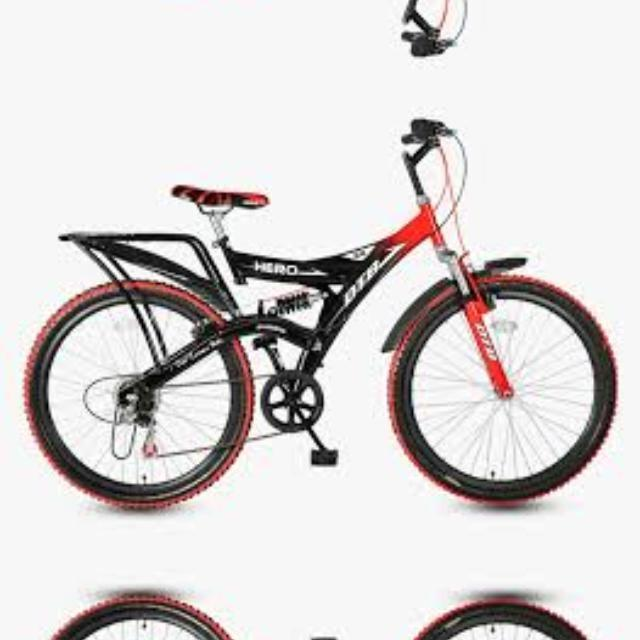obstacle: (16, 110, 628, 522), (15, 0, 628, 64), (15, 581, 628, 640)
